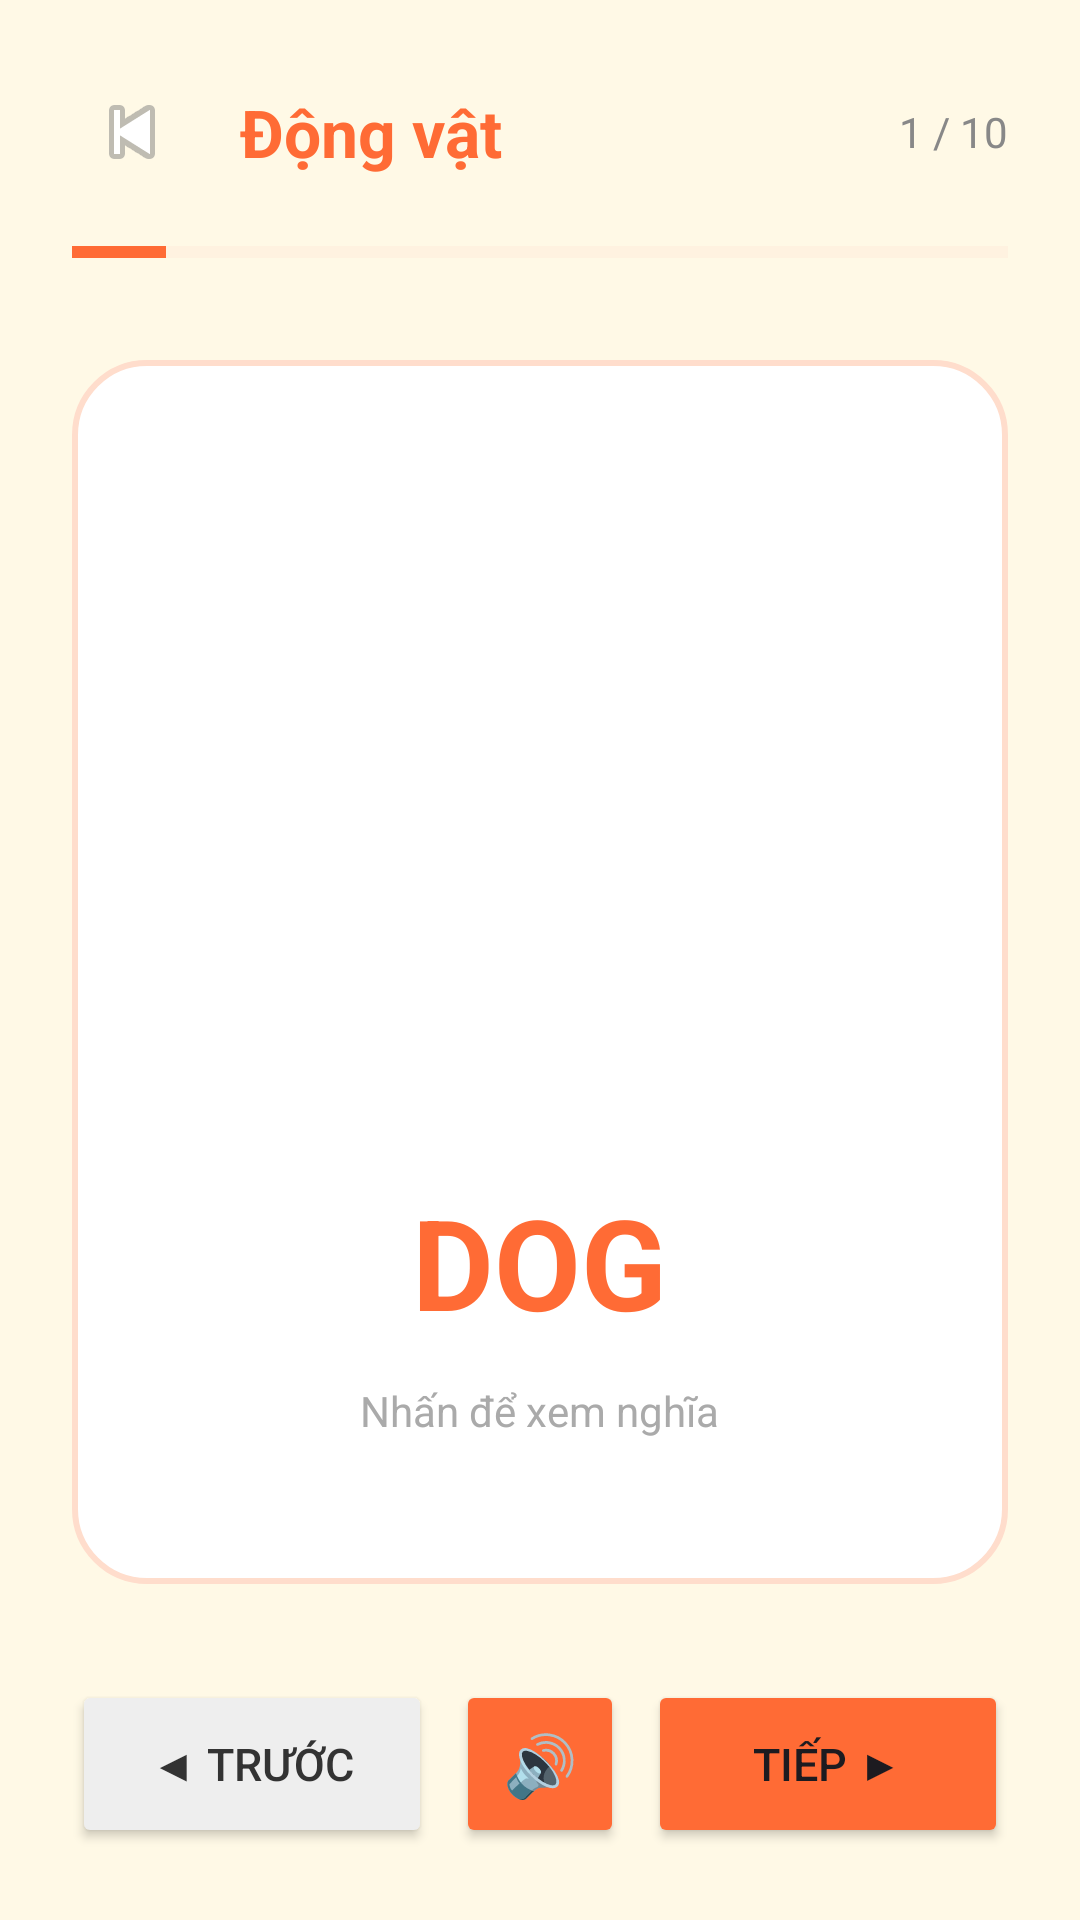

Icon click points for this 1080w x 1920h phone screenshot, format (x=x, y=y):
previous: (x=132, y=132)
